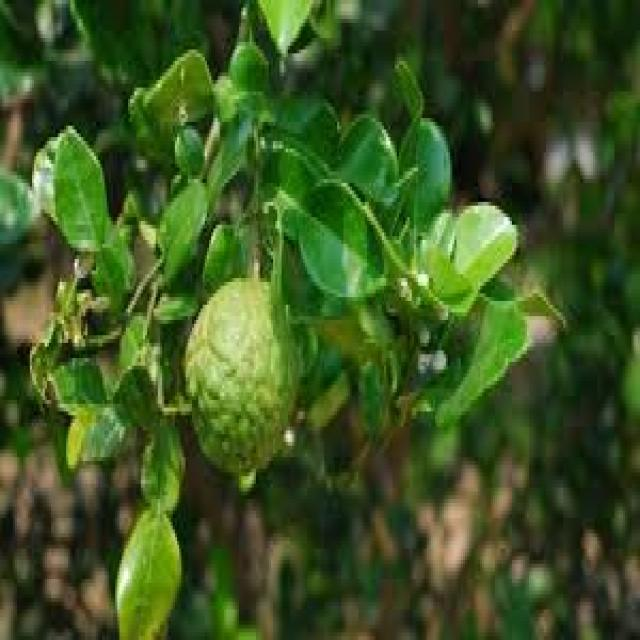Chuc: (181, 271, 299, 476)
